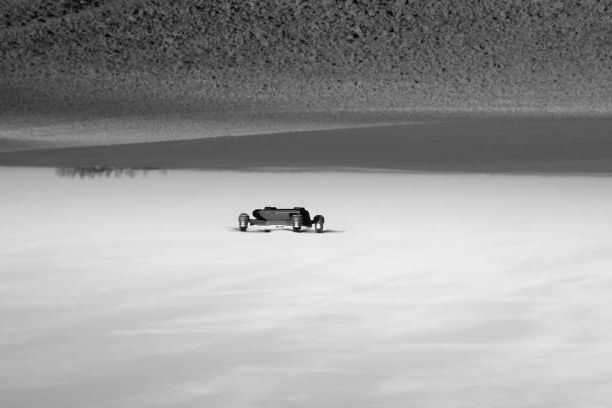Drone: (223, 204, 344, 235)
